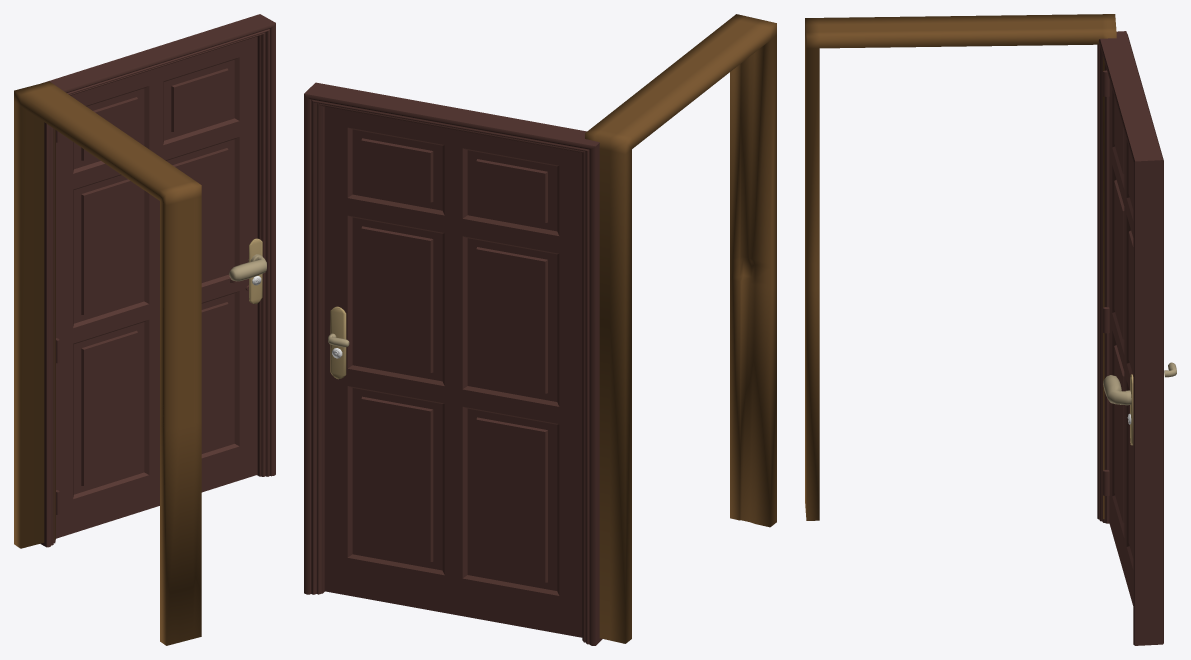
Rendered from entrada.gltf.
The picture shows the model from 3 angles, left to right: view 1: azimuth 30°, elevation 25°; view 2: azimuth 150°, elevation 25°; view 3: azimuth 270°, elevation 25°; orthographic projection. The views are drawn at different scales.
Parts seen in each view (by area): view 1: 10057_wooden_door_v3_iterations-2, OutBoddy_Cube.002, Mesh.001_Icosphere.001, Locker.001_Cube.004; view 2: 10057_wooden_door_v3_iterations-2, OutBoddy_Cube.002, Locker_Cube.003; view 3: 10057_wooden_door_v3_iterations-2, OutBoddy_Cube.002, Mesh.001_Icosphere.001.
Boxes of the visible parts, bbox=[...] form: 10057_wooden_door_v3_iterations-2: bbox=[40, 14, 275, 547]; OutBoddy_Cube.002: bbox=[14, 81, 201, 645]; Mesh.001_Icosphere.001: bbox=[229, 254, 266, 281]; Locker.001_Cube.004: bbox=[249, 238, 262, 303]; 10057_wooden_door_v3_iterations-2: bbox=[304, 82, 602, 645]; OutBoddy_Cube.002: bbox=[585, 14, 776, 643]; Locker_Cube.003: bbox=[330, 306, 346, 379]; 10057_wooden_door_v3_iterations-2: bbox=[1097, 31, 1163, 645]; OutBoddy_Cube.002: bbox=[805, 14, 1116, 520]; Mesh.001_Icosphere.001: bbox=[1103, 375, 1131, 405].
Bounding box in the file's own units: 7.77 × 12.51 × 8.6.
